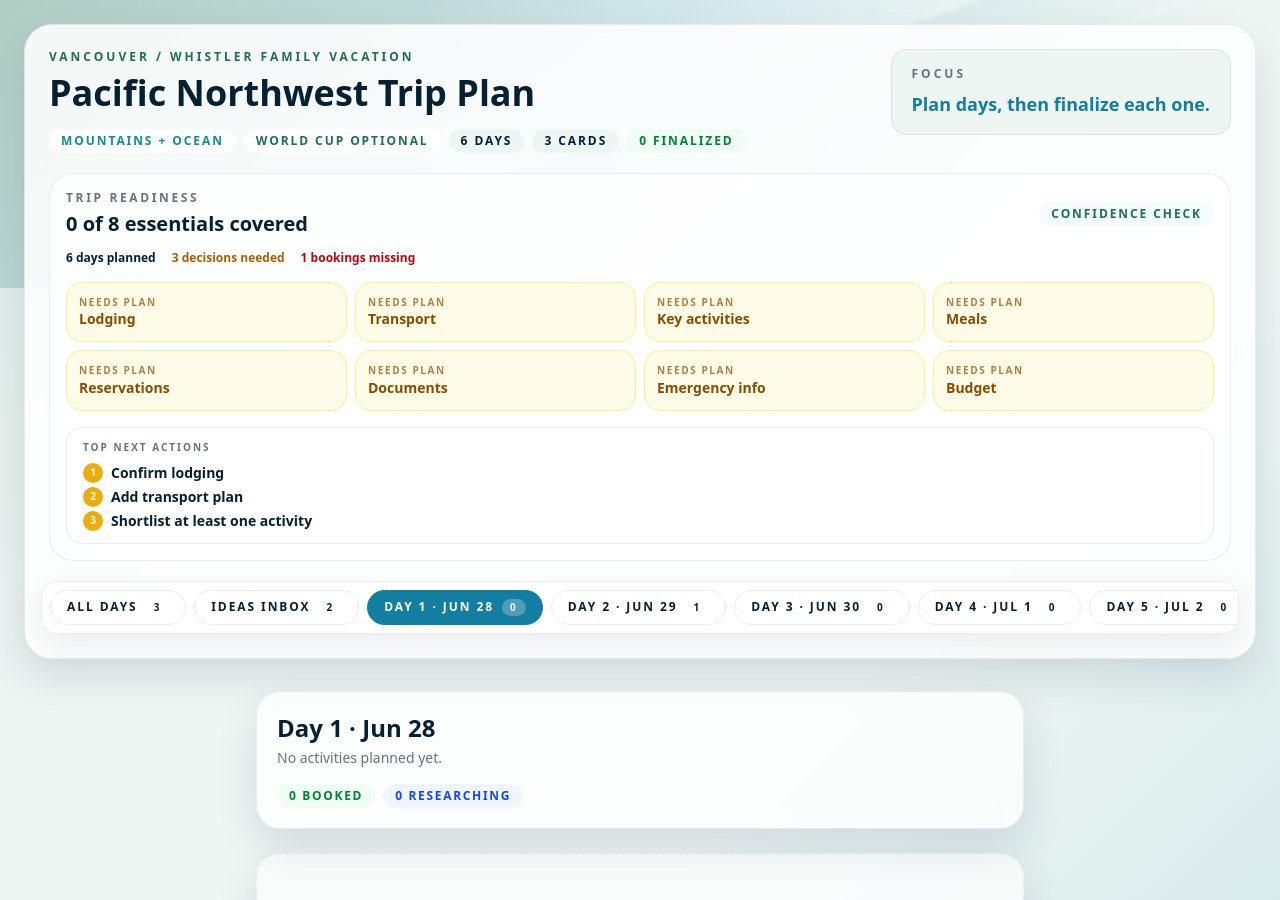
Test: KanbanBoard › updates a card status from the board
The width and height of the screenshot is (1280, 900).
Click the button "All Days 3": (118, 607) [50,590,186,625]
(page scrolled)
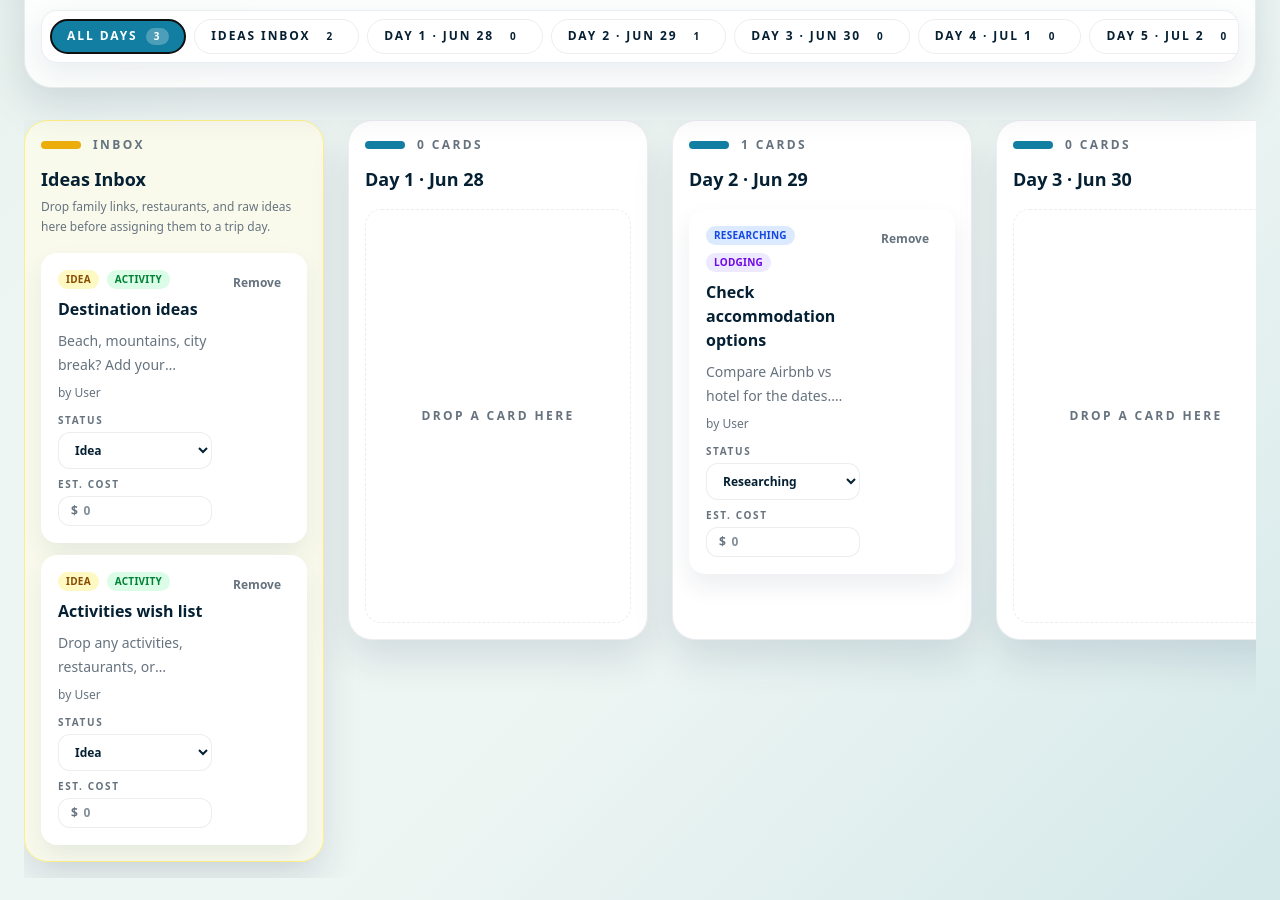
Select "Shortlisted" in the dropdown named "Status for Destination ideas": (135, 450) [58,432,212,469]
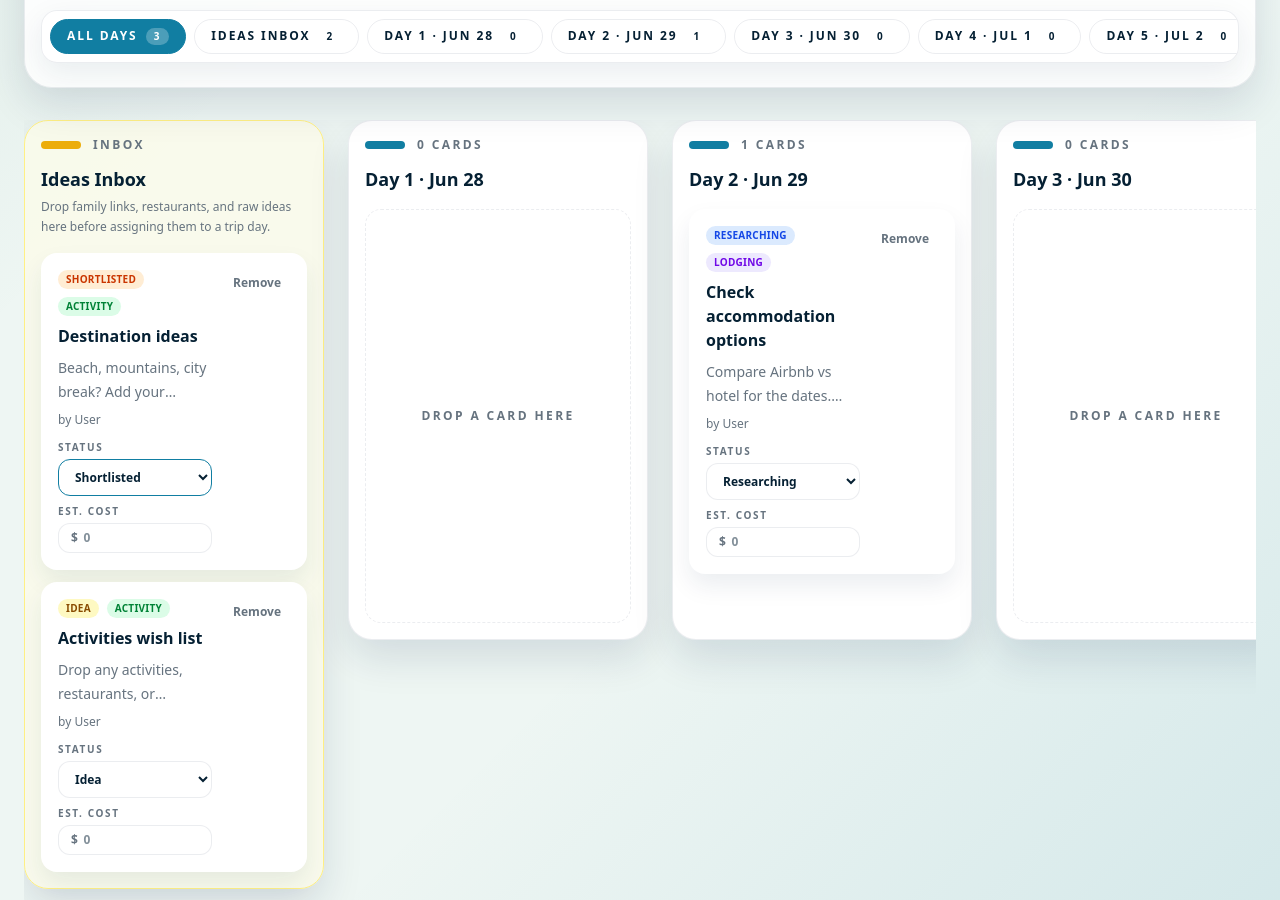
Now the text "Shortlisted" is shown, box [58,270,144,289]
